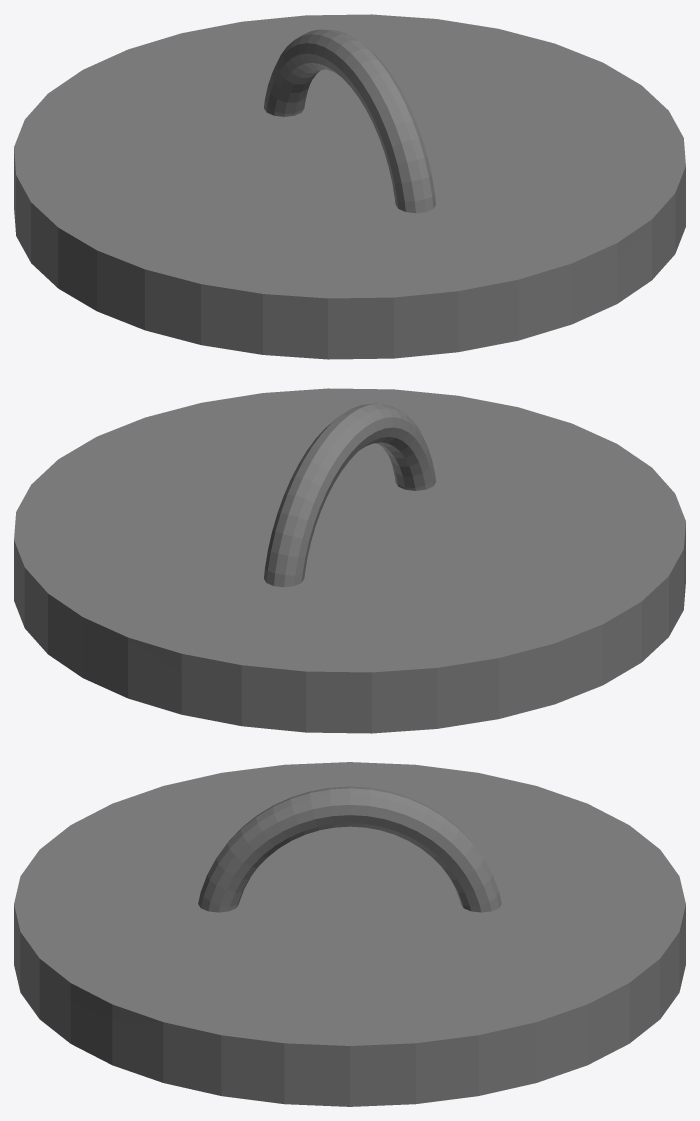
Rendered from Bin Lid.obj.
3 views of the same model, one above another, from view 1: azimuth 30°, elevation 25°; view 2: azimuth 150°, elevation 25°; view 3: azimuth 270°, elevation 25° (orthographic).
Visible parts, largest first — view 1: Cylinder.001; view 2: Cylinder.001; view 3: Cylinder.001.
Boxes of the visible parts, x1,y1,x2,y2 form: Cylinder.001: [14, 14, 685, 359]; Cylinder.001: [14, 388, 685, 733]; Cylinder.001: [14, 762, 685, 1106].
Bounding box in the file's own units: 2 × 0.58 × 2.
1 material, 1 textured.
